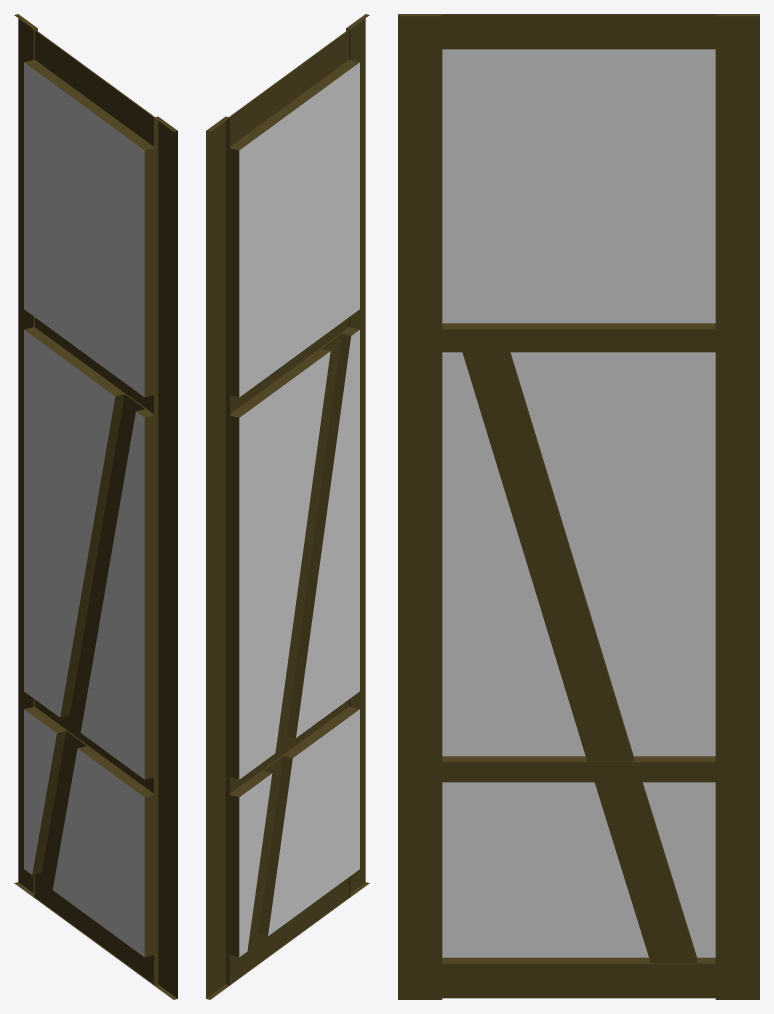
File: GB_Wall_2Stripe_1M_V3.fbx
The picture shows the model from 3 angles, left to right: view 1: azimuth 30°, elevation 25°; view 2: azimuth 150°, elevation 25°; view 3: azimuth 270°, elevation 25°; orthographic projection. The views are drawn at different scales.
Visible parts, largest first — view 1: HalfWall_Plaster16; view 2: HalfWall_Plaster16; view 3: HalfWall_Plaster16.
Part boxes in pixels (x1,y1,x2,y2): HalfWall_Plaster16: (14,14,177,999); HalfWall_Plaster16: (206,14,369,999); HalfWall_Plaster16: (398,14,759,999).
Bounding box in the file's own units: 0.05 × 3 × 1.
